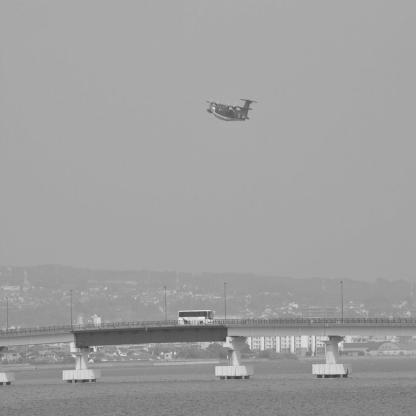US2: (206, 99, 259, 123)
